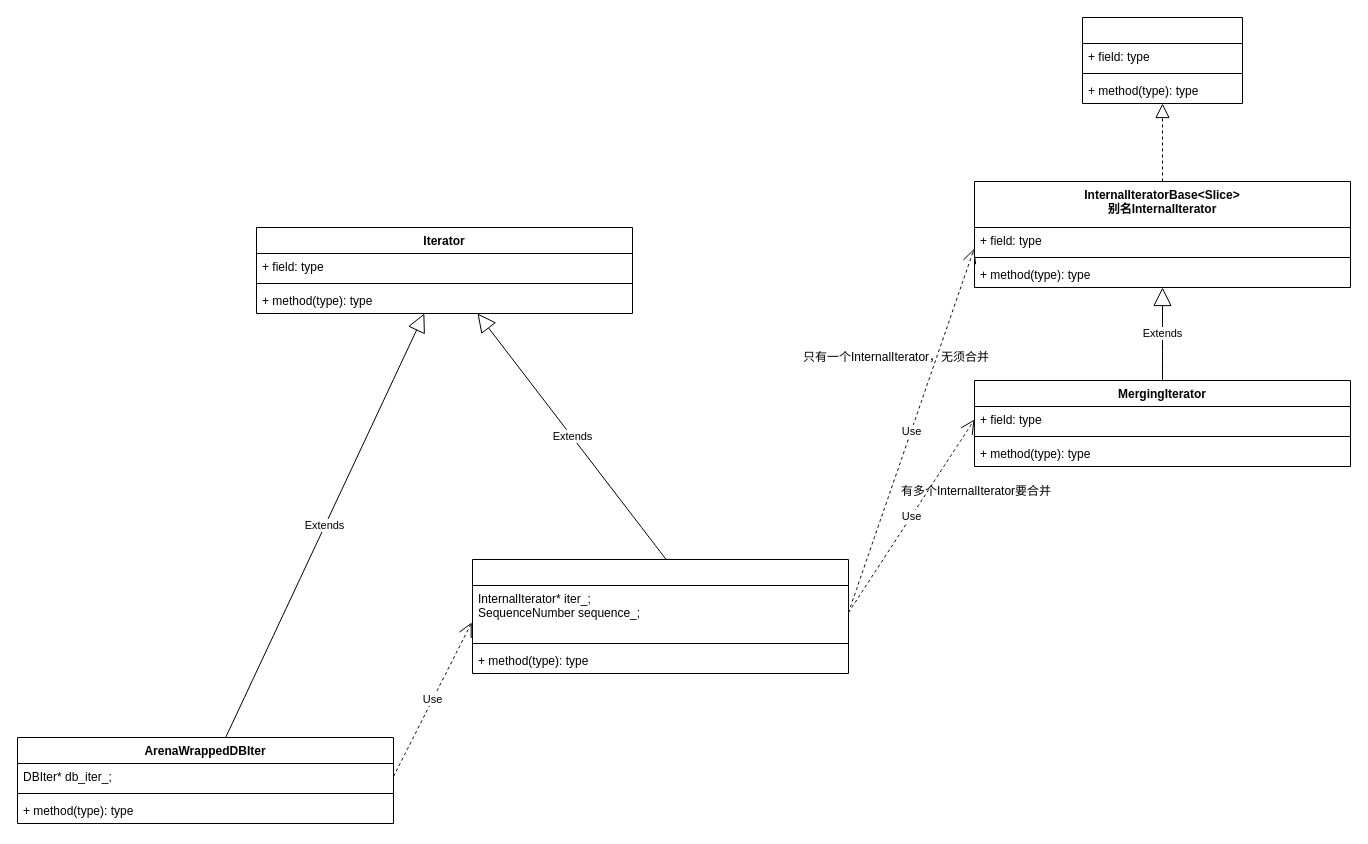
This 1368x844 diagram has some shape labels left out. The box of each missing label's shape, as (x1, y1, x2, y2) in pixels:
Cleanable: (1082, 16, 1242, 104)
DBIter: (472, 558, 848, 674)
